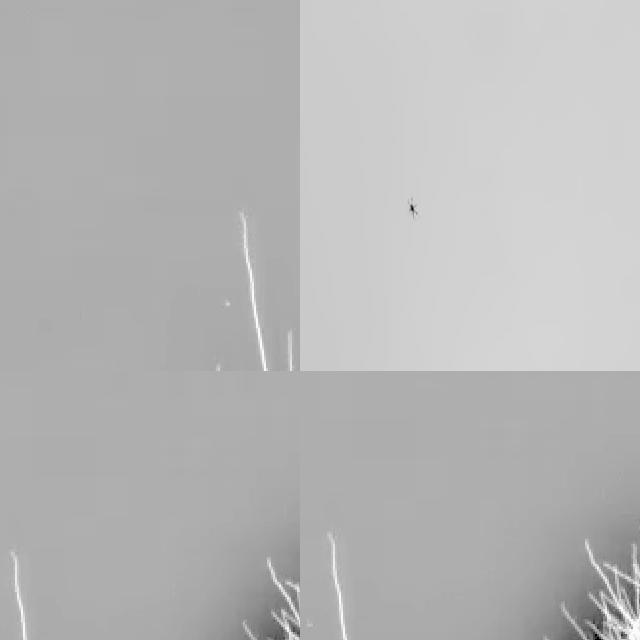0: (212, 296, 238, 316), (300, 615, 320, 635)
drone: (403, 192, 422, 221)
